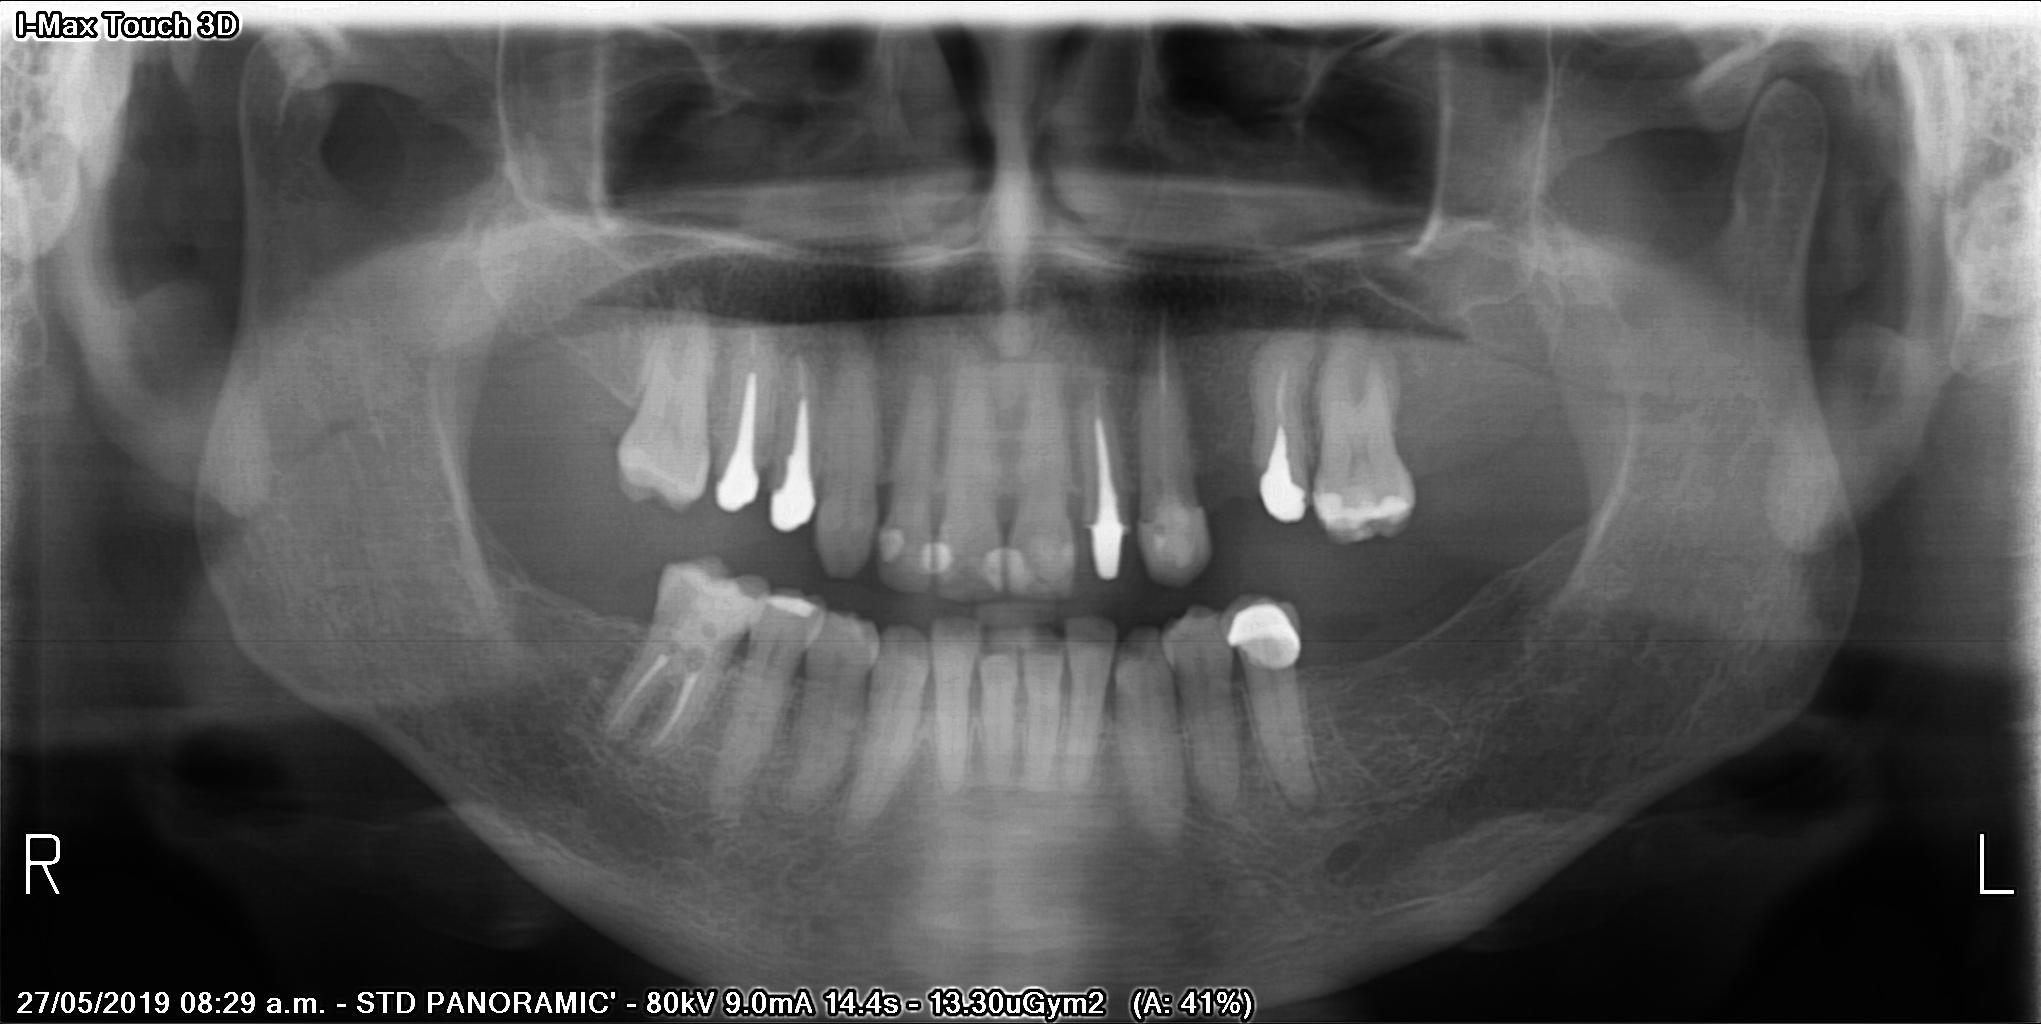Çürük: (1084, 408, 1135, 585), (710, 362, 764, 521), (1221, 593, 1312, 682), (768, 387, 819, 536), (1255, 414, 1312, 533), (1319, 482, 1410, 537), (756, 590, 827, 627), (973, 533, 1009, 602), (915, 525, 955, 585), (1002, 542, 1030, 605), (875, 513, 905, 571)
Çürük Bölgesi: (1363, 504, 1405, 549)
